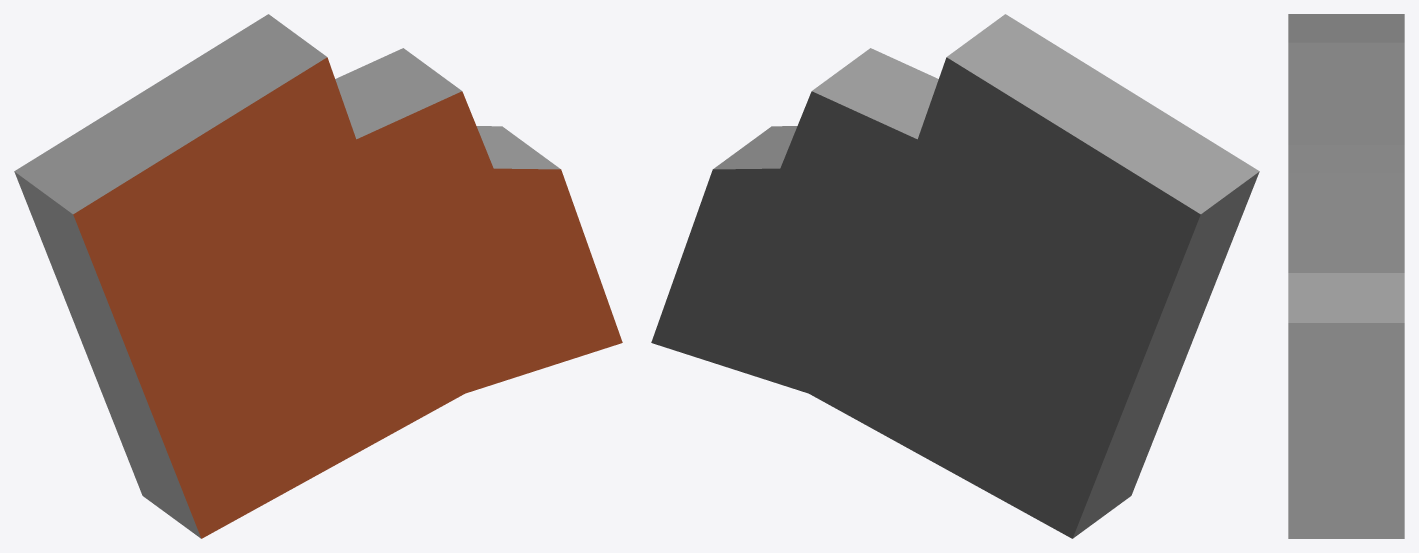
Rendered from construction_6815_assumed_A_Casa_h6m.obj.
3 views of the same model, side by side, from view 1: azimuth 30°, elevation 25°; view 2: azimuth 150°, elevation 25°; view 3: azimuth 270°, elevation 25° (orthographic).
Visible parts, largest first — view 1: construction_6815_assumed_A_Casa; view 2: construction_6815_assumed_A_Casa; view 3: construction_6815_assumed_A_Casa.
Boxes of the visible parts, x1,y1,x2,y2 form: construction_6815_assumed_A_Casa: (14,14,622,538); construction_6815_assumed_A_Casa: (651,14,1259,538); construction_6815_assumed_A_Casa: (1288,14,1404,538).
Bounding box in the file's own units: 32.3 × 25.33 × 6.
